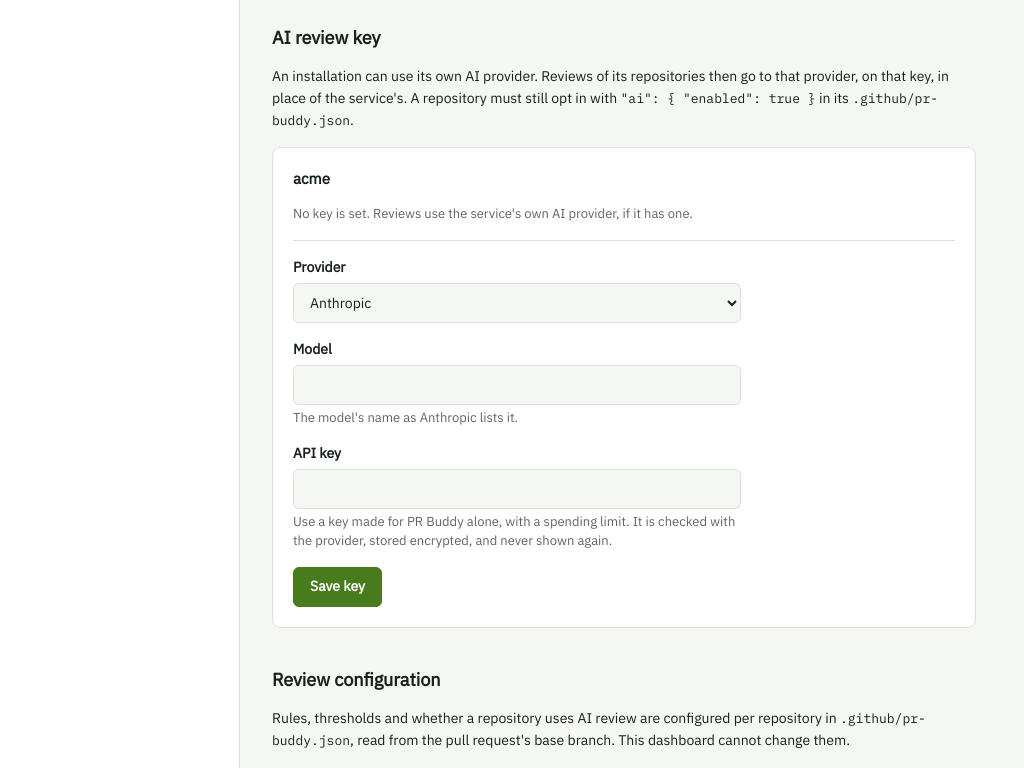
Test: saving a key › reports a network failure, and clears the error on the next attempt
(page scrolled)
Type "m" into the field labelled "Model" at (517, 384), box [293,364,741,404]
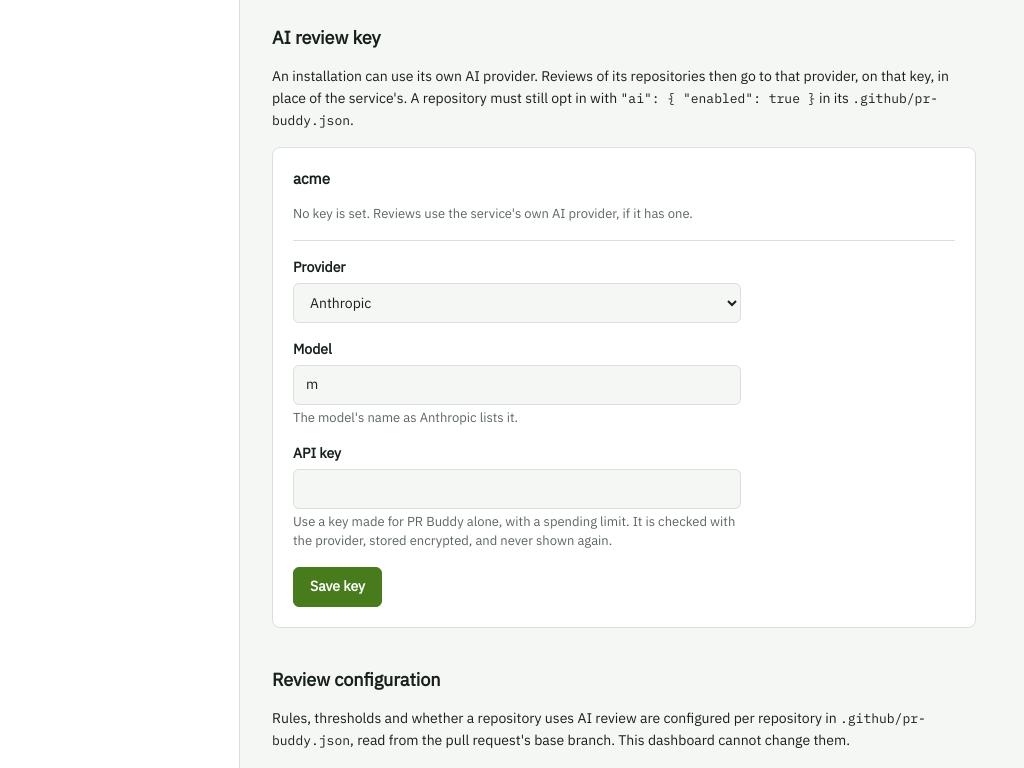
Type "sk-KEY-CANARY-0123456789abcd" into the password field labelled "API key" at (517, 489), box [293,469,741,509]
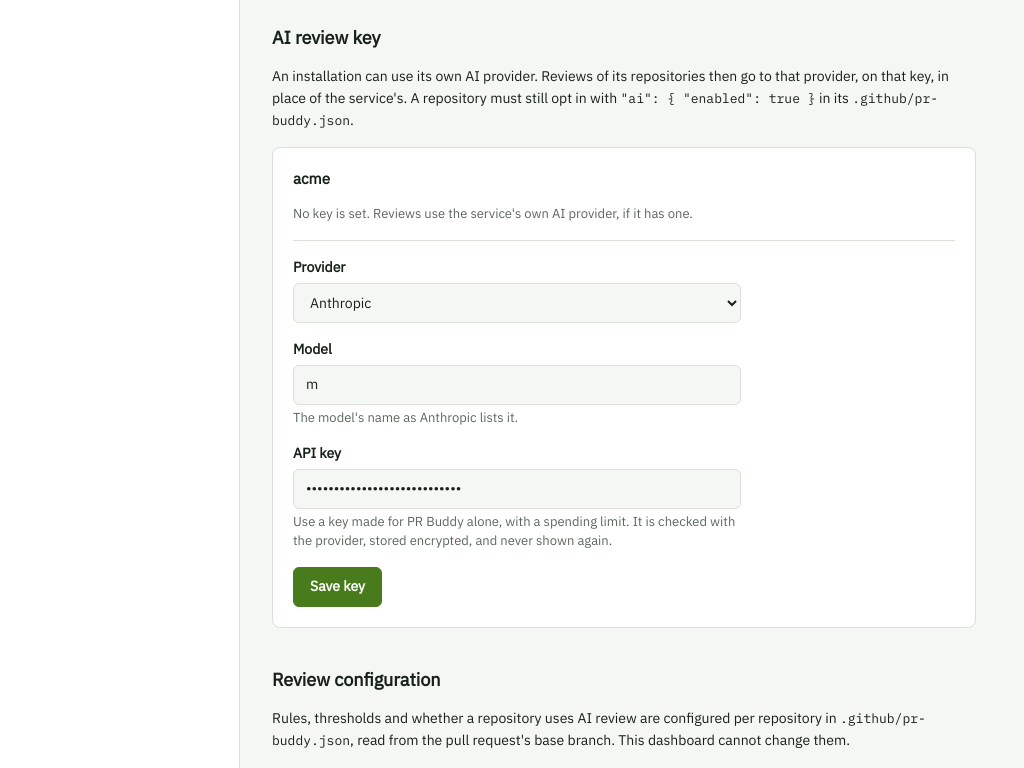
Click the button "Save key" at (338, 587), box [293,567,382,607]
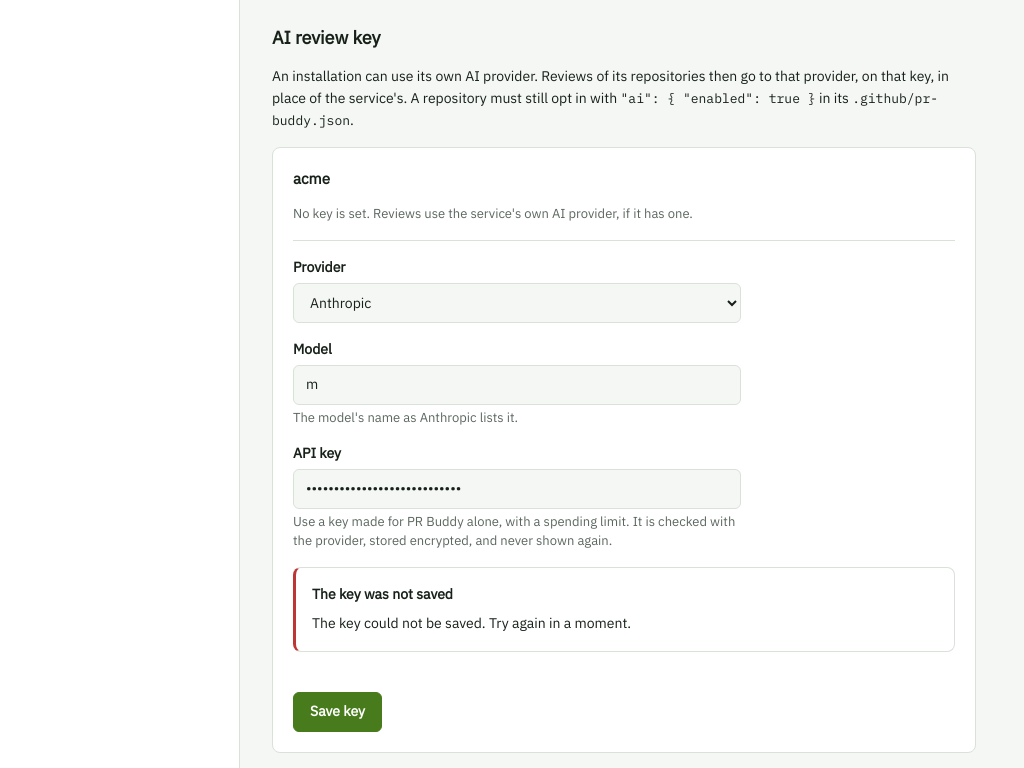
Now the message shows "The key could not be saved.", box [312,614,631,632]
Click the button "Save key" at (338, 712), box [293,692,382,732]
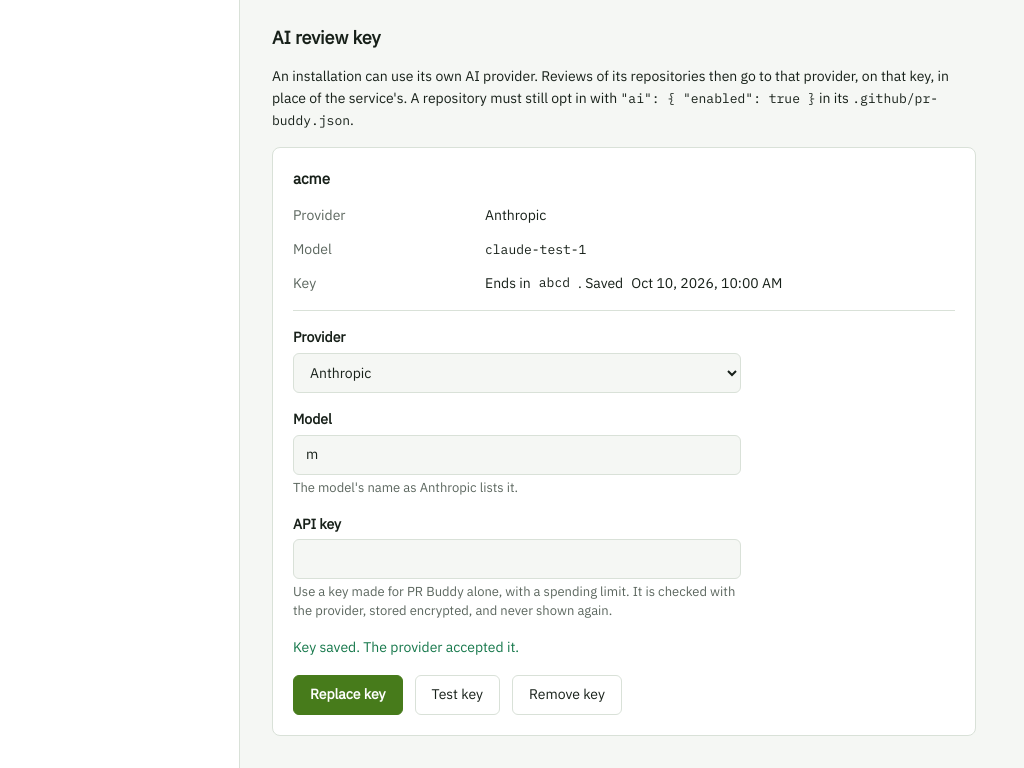
Now the message "Key saved. The provider accepted it." is shown, box [293,638,519,656]
